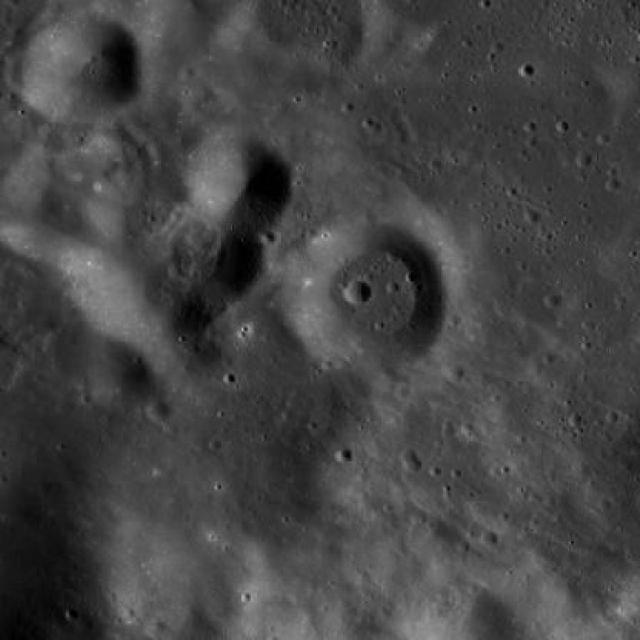crater: (49, 149, 262, 345), (283, 222, 452, 378), (21, 10, 144, 124), (182, 132, 296, 234), (0, 153, 100, 259), (80, 147, 180, 238), (240, 0, 366, 71), (148, 328, 228, 401), (130, 0, 218, 65), (83, 344, 154, 410), (407, 513, 461, 562), (97, 119, 134, 153), (58, 148, 94, 181), (27, 133, 61, 164), (165, 123, 198, 152), (344, 278, 370, 304), (374, 368, 400, 392), (146, 398, 172, 422), (148, 138, 172, 160), (128, 142, 150, 162), (188, 83, 210, 103), (146, 620, 165, 637), (447, 366, 464, 382), (336, 446, 352, 462)
